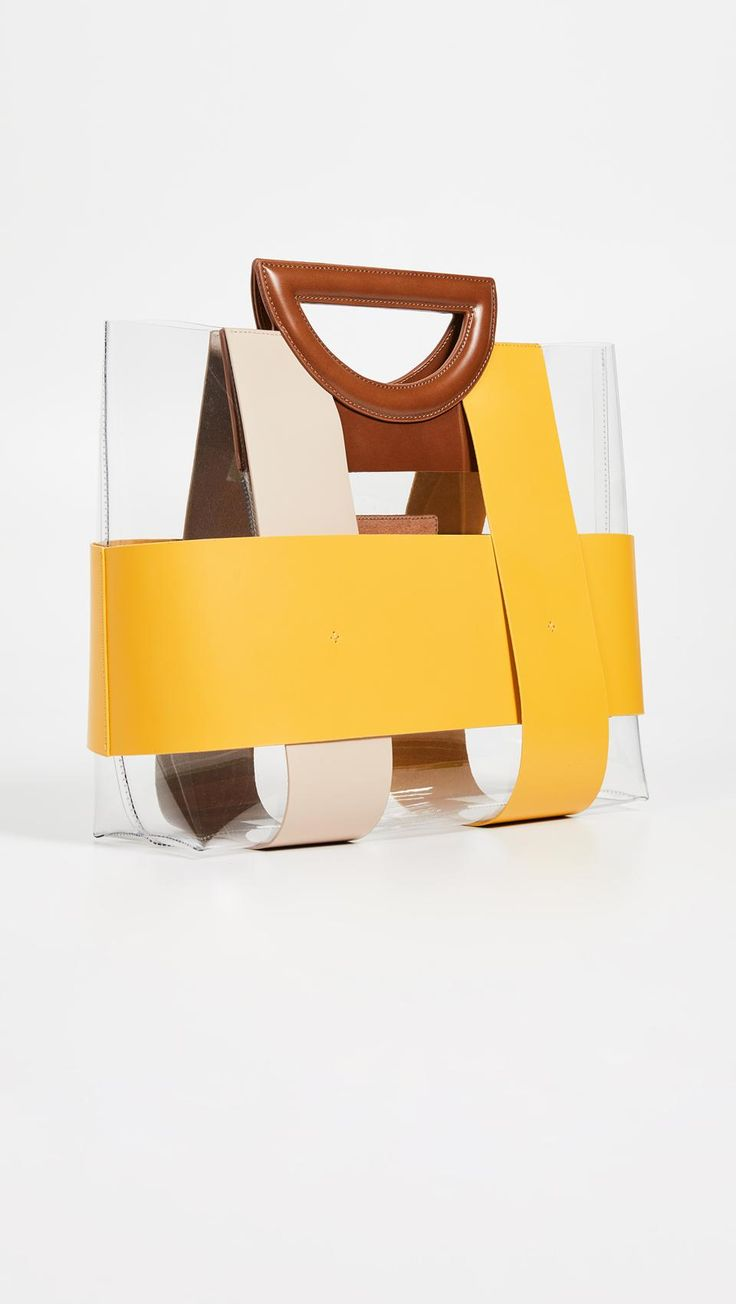cuero: (89, 256, 648, 852)
